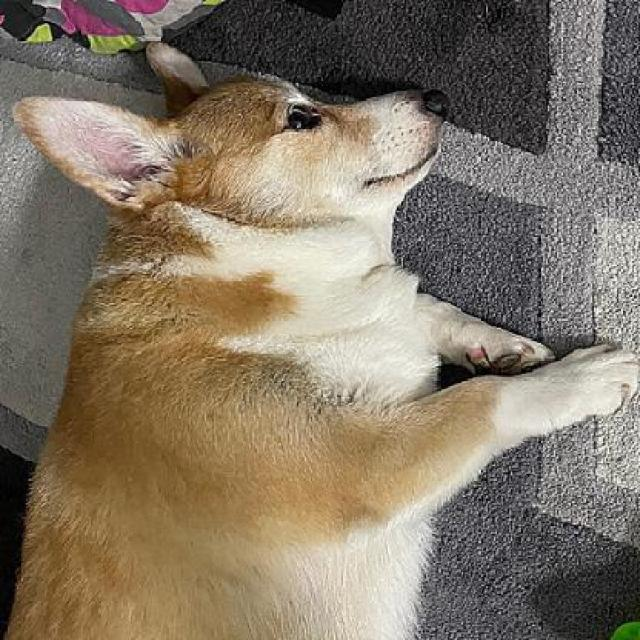Dog: (12, 66, 638, 639)
